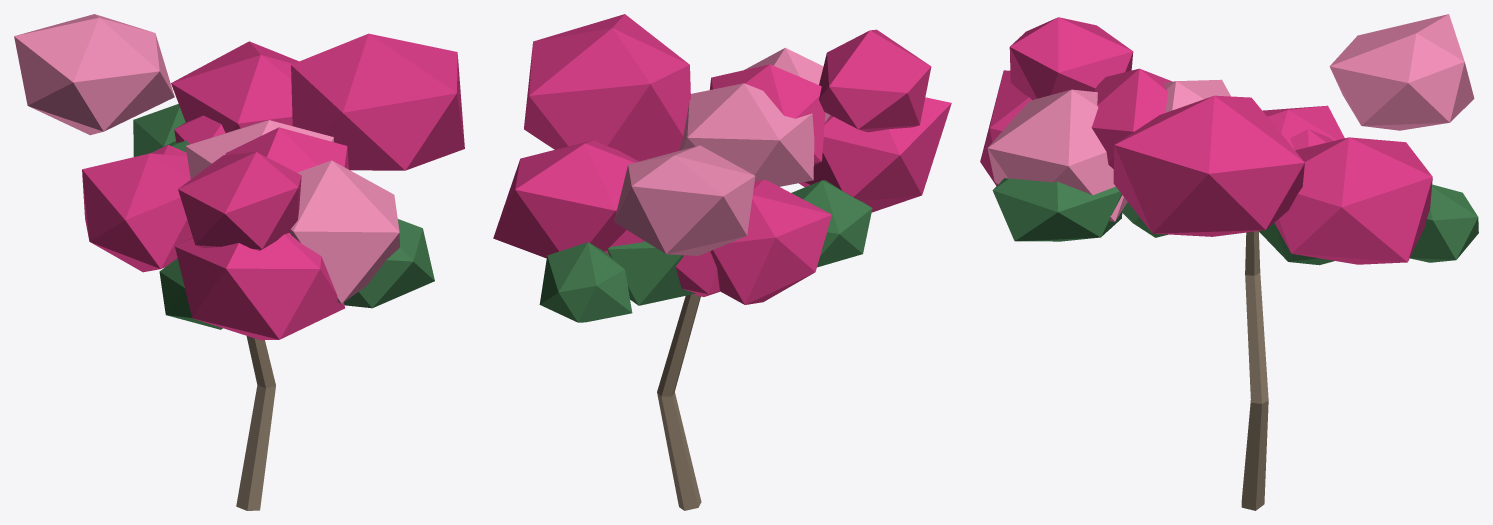
Rendered from bougainvillea.glb.
3 views of the same model, side by side, from view 1: azimuth 30°, elevation 25°; view 2: azimuth 150°, elevation 25°; view 3: azimuth 270°, elevation 25° (orthographic). The views are drawn at different scales.
Visible parts, largest first — view 1: SG_Bougainvillea; view 2: SG_Bougainvillea; view 3: SG_Bougainvillea.
Boxes of the visible parts, x1,y1,x2,y2 form: SG_Bougainvillea: (14,14,464,510); SG_Bougainvillea: (493,14,951,510); SG_Bougainvillea: (980,14,1478,510).
Size of the model in its own units: 2.75 by 3.63 by 3.57.
